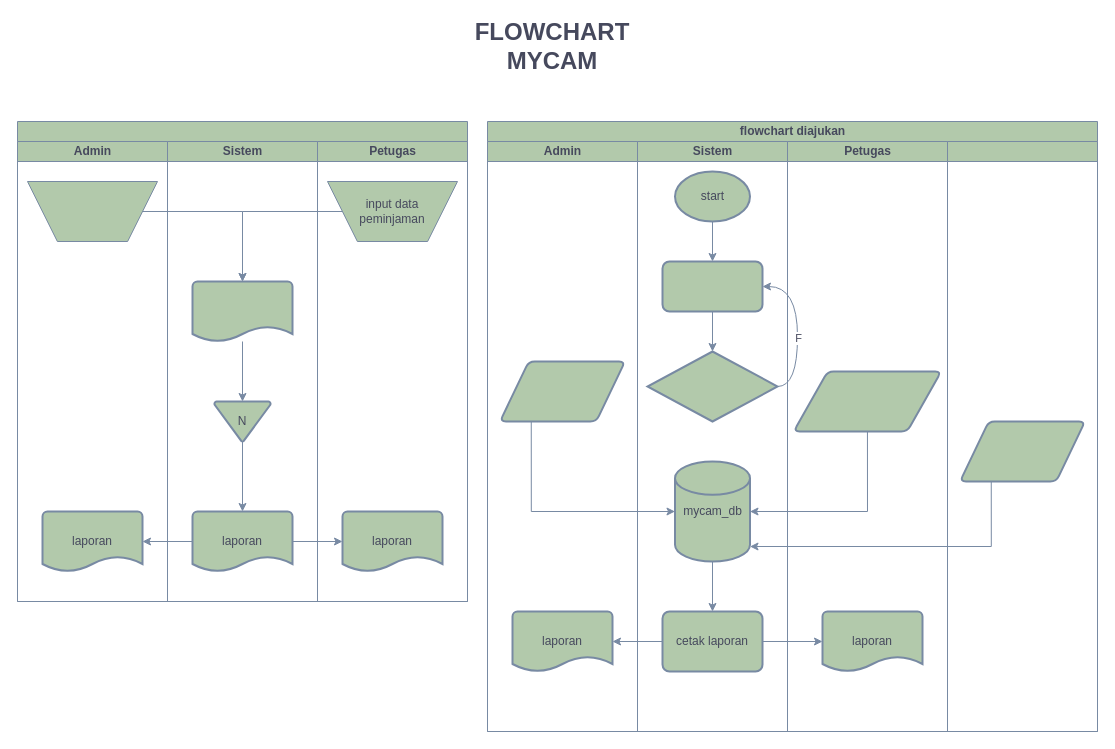
The diagram is 1115 pixels wide and 749 high, and some of its shapes have lost their labels. Each missing label, with the box of its shape:
cek nama dan password: (646, 350, 778, 422)
data induk peminjaman: (191, 280, 293, 342)
flowchart berjalan: (16, 120, 468, 602)
input data alat dan peminajaman: (26, 180, 158, 242)
kategori dan nama alat: (498, 360, 626, 422)
Login: (661, 260, 763, 312)
Pelanggan: (946, 140, 1098, 732)
peminjama dan penbgembalian: (792, 370, 942, 432)
peminjaman: (958, 420, 1086, 482)
